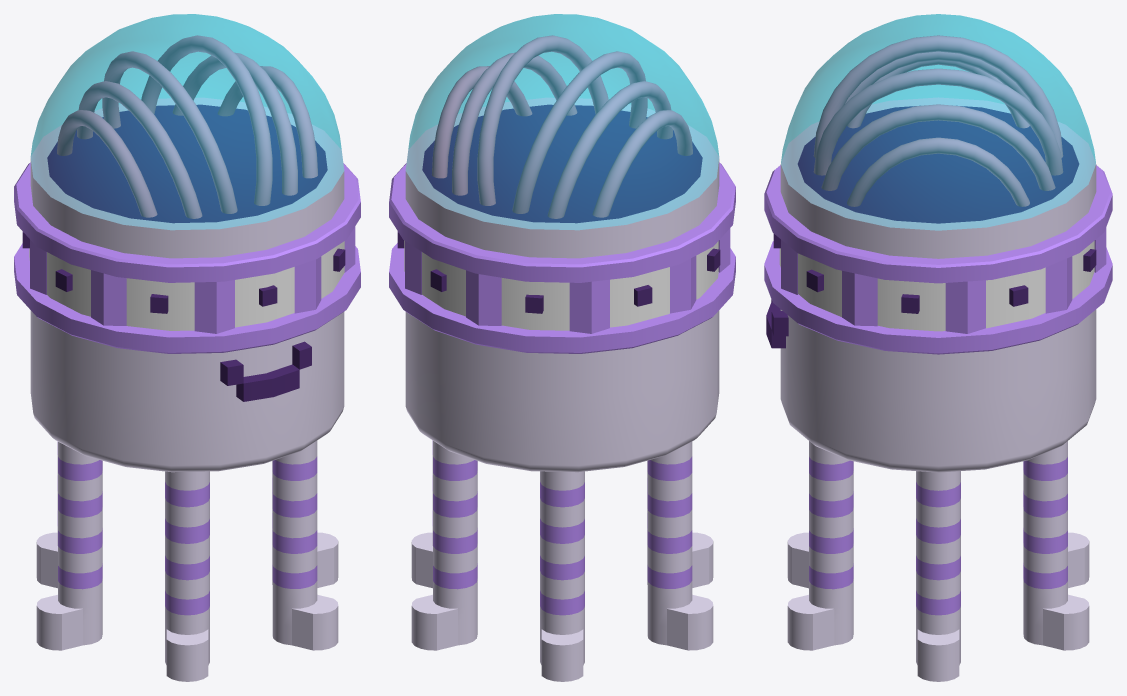
Rendered from Lickquidator_Soldier_Cute.fbx.
3 renders of one model, left to right at view 1: azimuth 30°, elevation 25°; view 2: azimuth 150°, elevation 25°; view 3: azimuth 270°, elevation 25°, orthographic.
Visible parts, largest first — view 1: body_frame, body_dome, visor, brains, leg4, leg, leg5, dividers, mouth_base, leg3, leg1; view 2: body_frame, body_dome, visor, brains, leg, leg2, leg1, dividers, leg5, leg3; view 3: body_frame, body_dome, visor, brains, leg2, leg4, leg3, dividers, leg1, leg5, mouth_base.
Part boxes in pixels (box(x1,y1,x2,y2)): body_frame: box(30, 97, 344, 472); body_dome: box(30, 14, 343, 229); visor: box(14, 162, 360, 353); brains: box(57, 35, 317, 218); leg4: box(272, 440, 338, 650); leg: box(36, 442, 102, 650); leg5: box(165, 471, 209, 681); dividers: box(30, 226, 355, 333); mouth_base: box(220, 341, 311, 401); leg3: box(272, 461, 338, 587); leg1: box(36, 442, 57, 588); body_frame: box(405, 97, 719, 472); body_dome: box(406, 14, 719, 229); visor: box(389, 162, 735, 353); brains: box(432, 35, 692, 218); leg: box(647, 442, 713, 650); leg2: box(411, 441, 477, 650); leg1: box(540, 471, 584, 681); dividers: box(405, 228, 730, 333); leg5: box(647, 461, 713, 587); leg3: box(411, 440, 432, 588); body_frame: box(780, 97, 1096, 472); body_dome: box(781, 14, 1095, 230); visor: box(764, 165, 1112, 354); brains: box(813, 35, 1063, 206); leg2: box(1023, 441, 1089, 650); leg4: box(787, 441, 853, 650); leg3: box(916, 471, 960, 681); dividers: box(781, 228, 1106, 333); leg1: box(1068, 532, 1089, 588); leg5: box(787, 532, 808, 588); mouth_base: box(766, 299, 788, 348).
Bounding box in the file's own units: 1.13 × 2.08 × 1.13.
